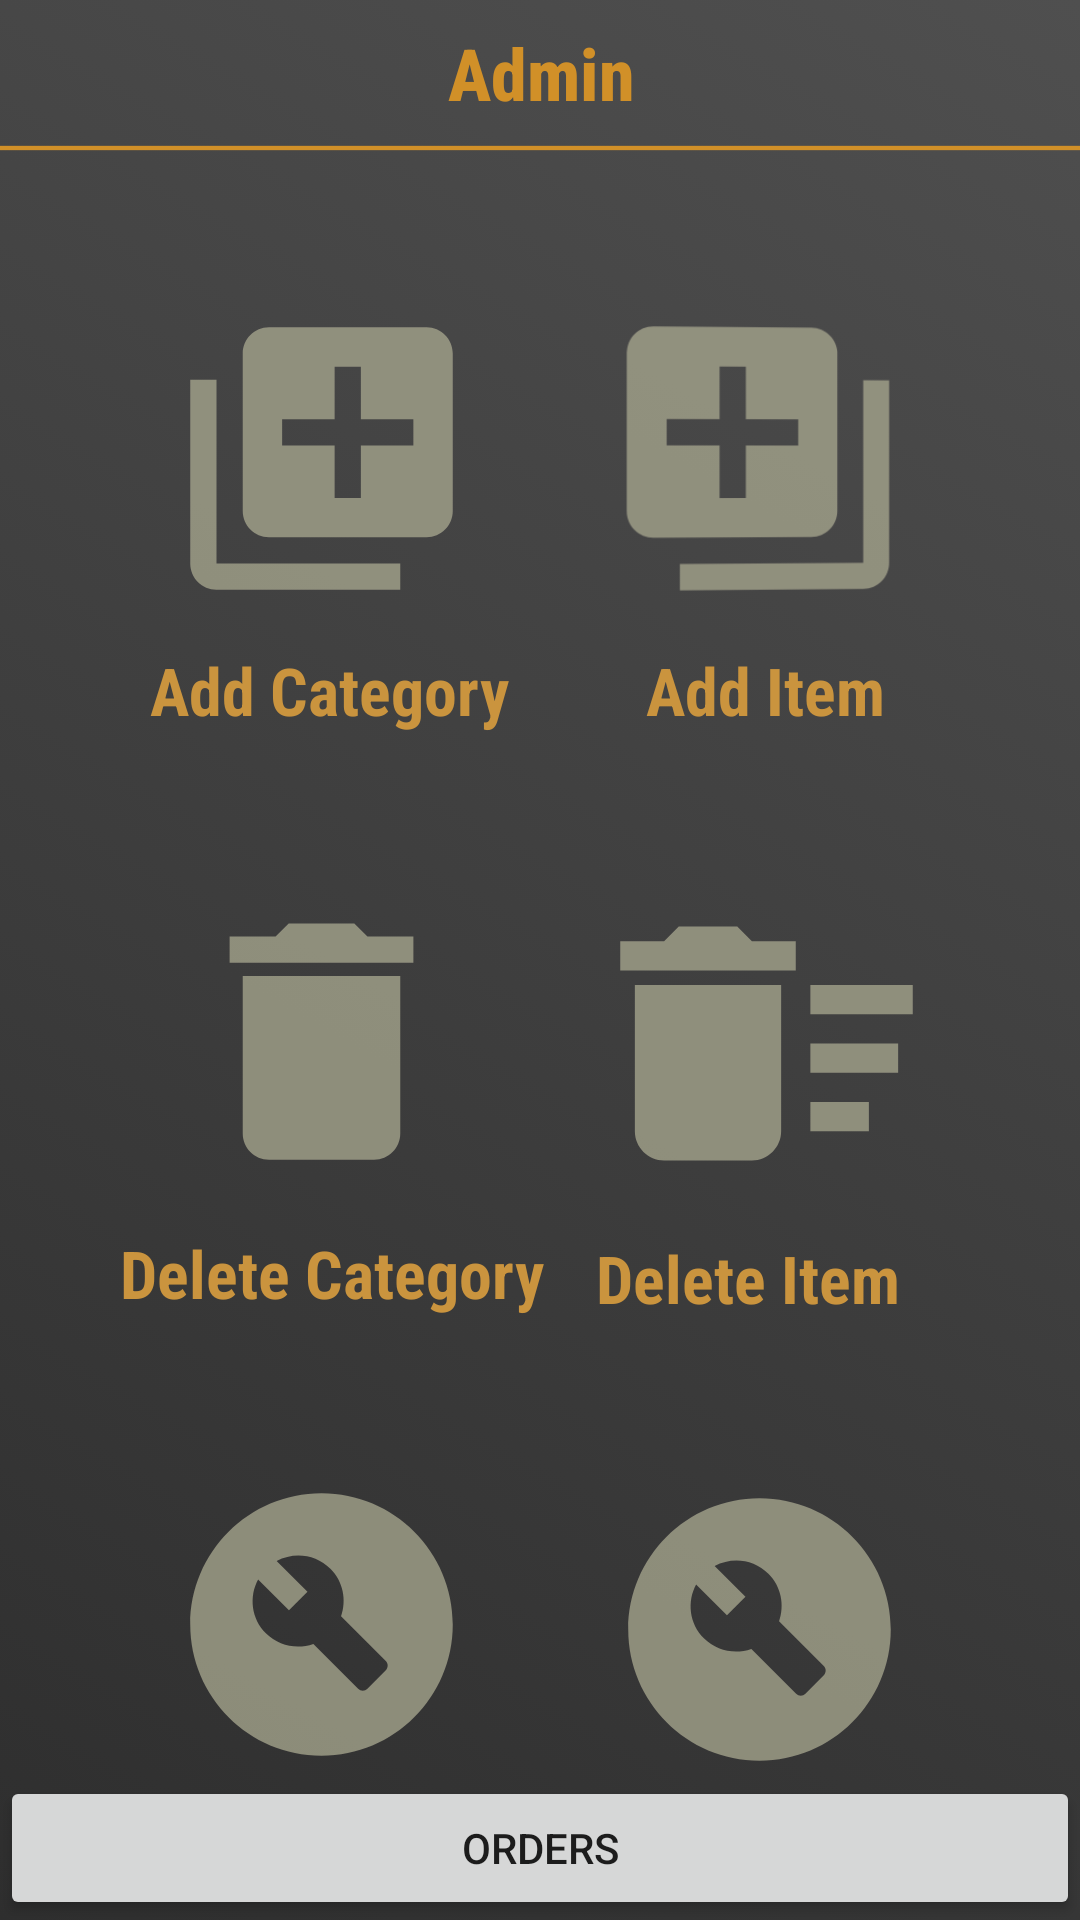

Point at icon controls on the screen. Image size 1080px x 1920px, points as (x=x, y=y).
del category: (x=321, y=1041)
